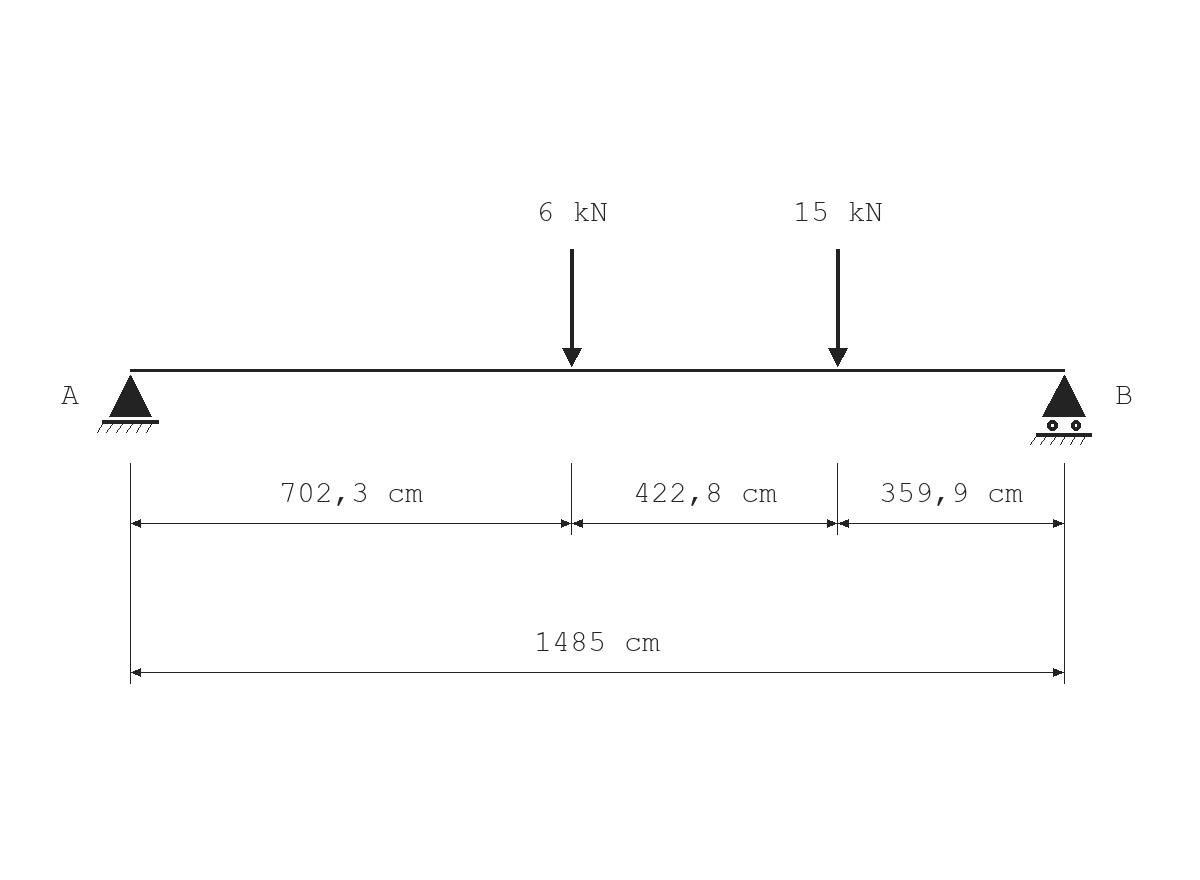pin_support: (97, 375, 159, 433)
point_load: (562, 249, 582, 367), (828, 249, 848, 367)
roller_support: (1030, 375, 1092, 445)
